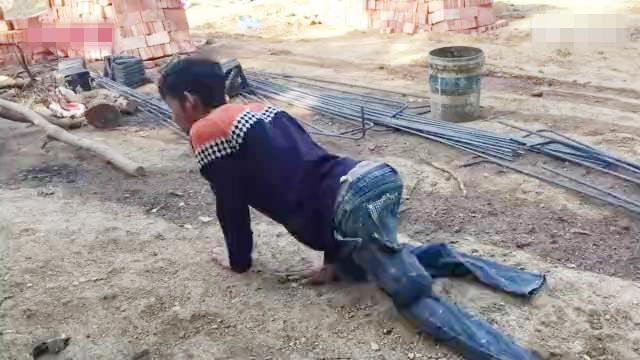Fall-Detected: (138, 44, 561, 355)
